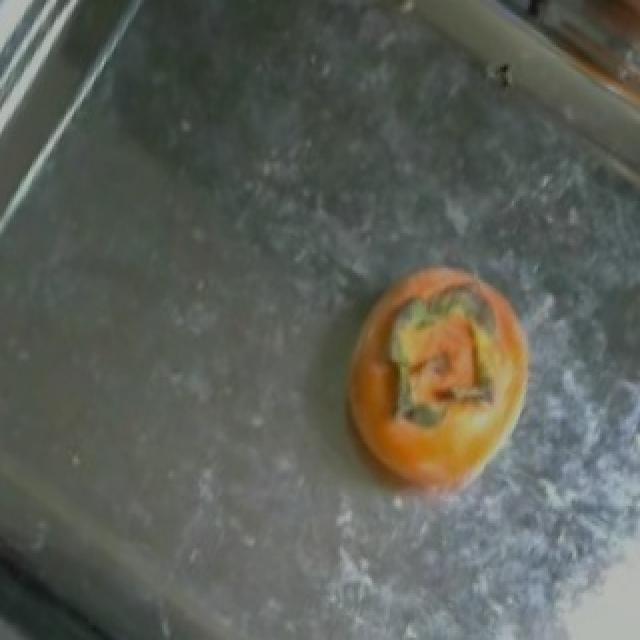Fruit: (326, 246, 554, 534)
